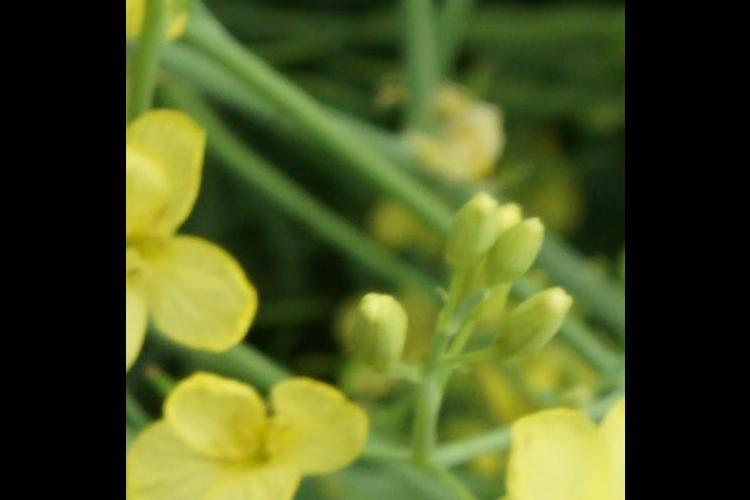bud: (489, 284, 579, 393), (333, 289, 422, 375), (483, 207, 552, 291), (443, 192, 507, 272)
yellow: (127, 103, 272, 361), (130, 380, 356, 500), (486, 421, 616, 500)
